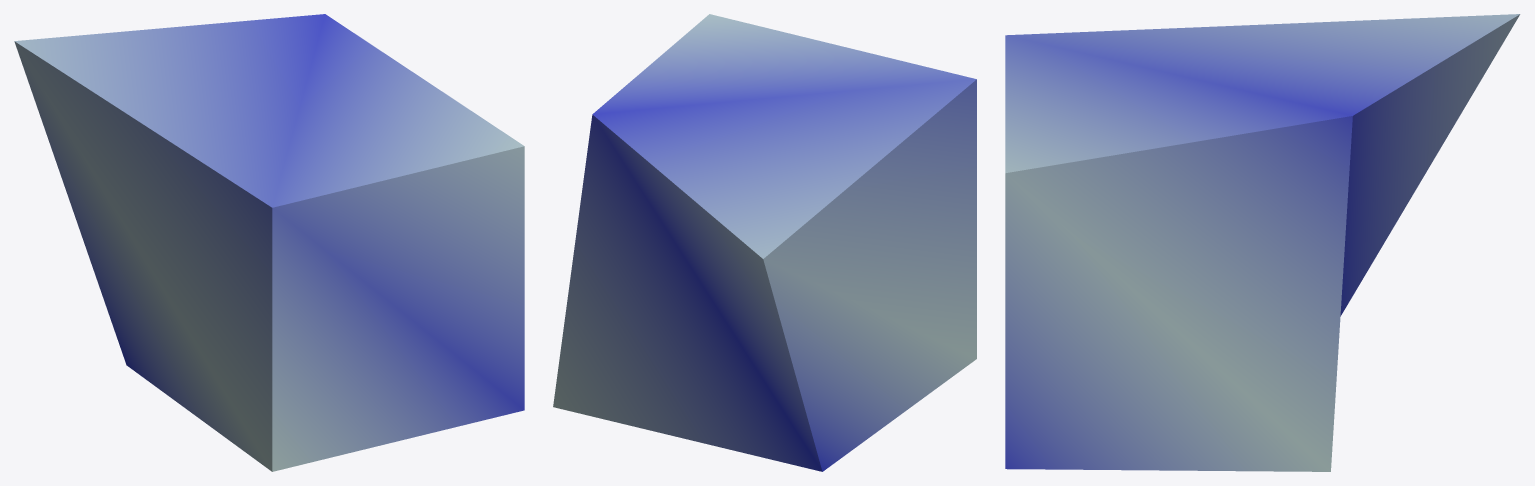
The model's file is cube0_fbx_animated.fbx.
3 views of the same model, side by side, from view 1: azimuth 30°, elevation 25°; view 2: azimuth 150°, elevation 25°; view 3: azimuth 270°, elevation 25° (orthographic). The views are drawn at different scales.
Visible parts, largest first — view 1: Cube.002; view 2: Cube.002; view 3: Cube.002.
Boxes of the visible parts, x1,y1,x2,y2 form: Cube.002: [14, 14, 524, 471]; Cube.002: [553, 14, 976, 471]; Cube.002: [1005, 14, 1520, 471].
Size of the model in its own units: 54.76 by 54.54 by 77.03.
